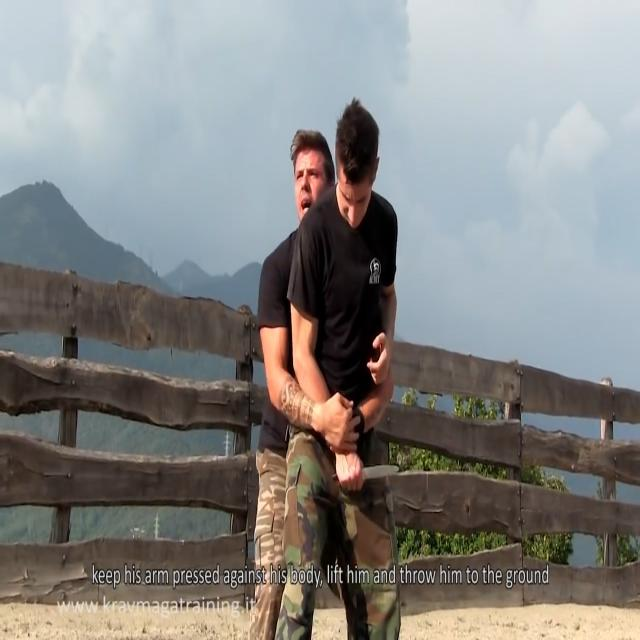knife: (362, 460, 402, 487)
